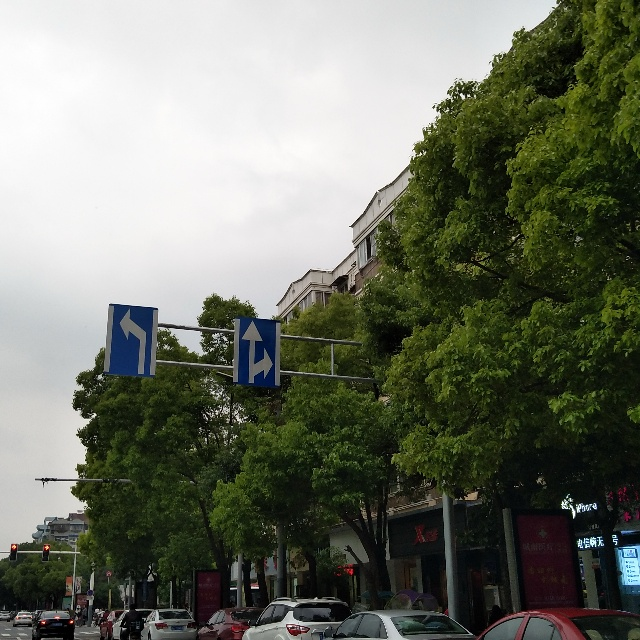left: (113, 302, 148, 377)
